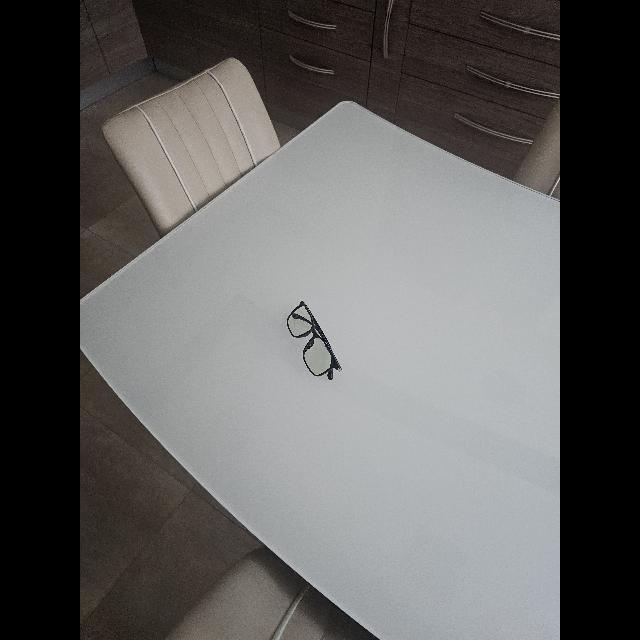glasses: (287, 300, 341, 380)
